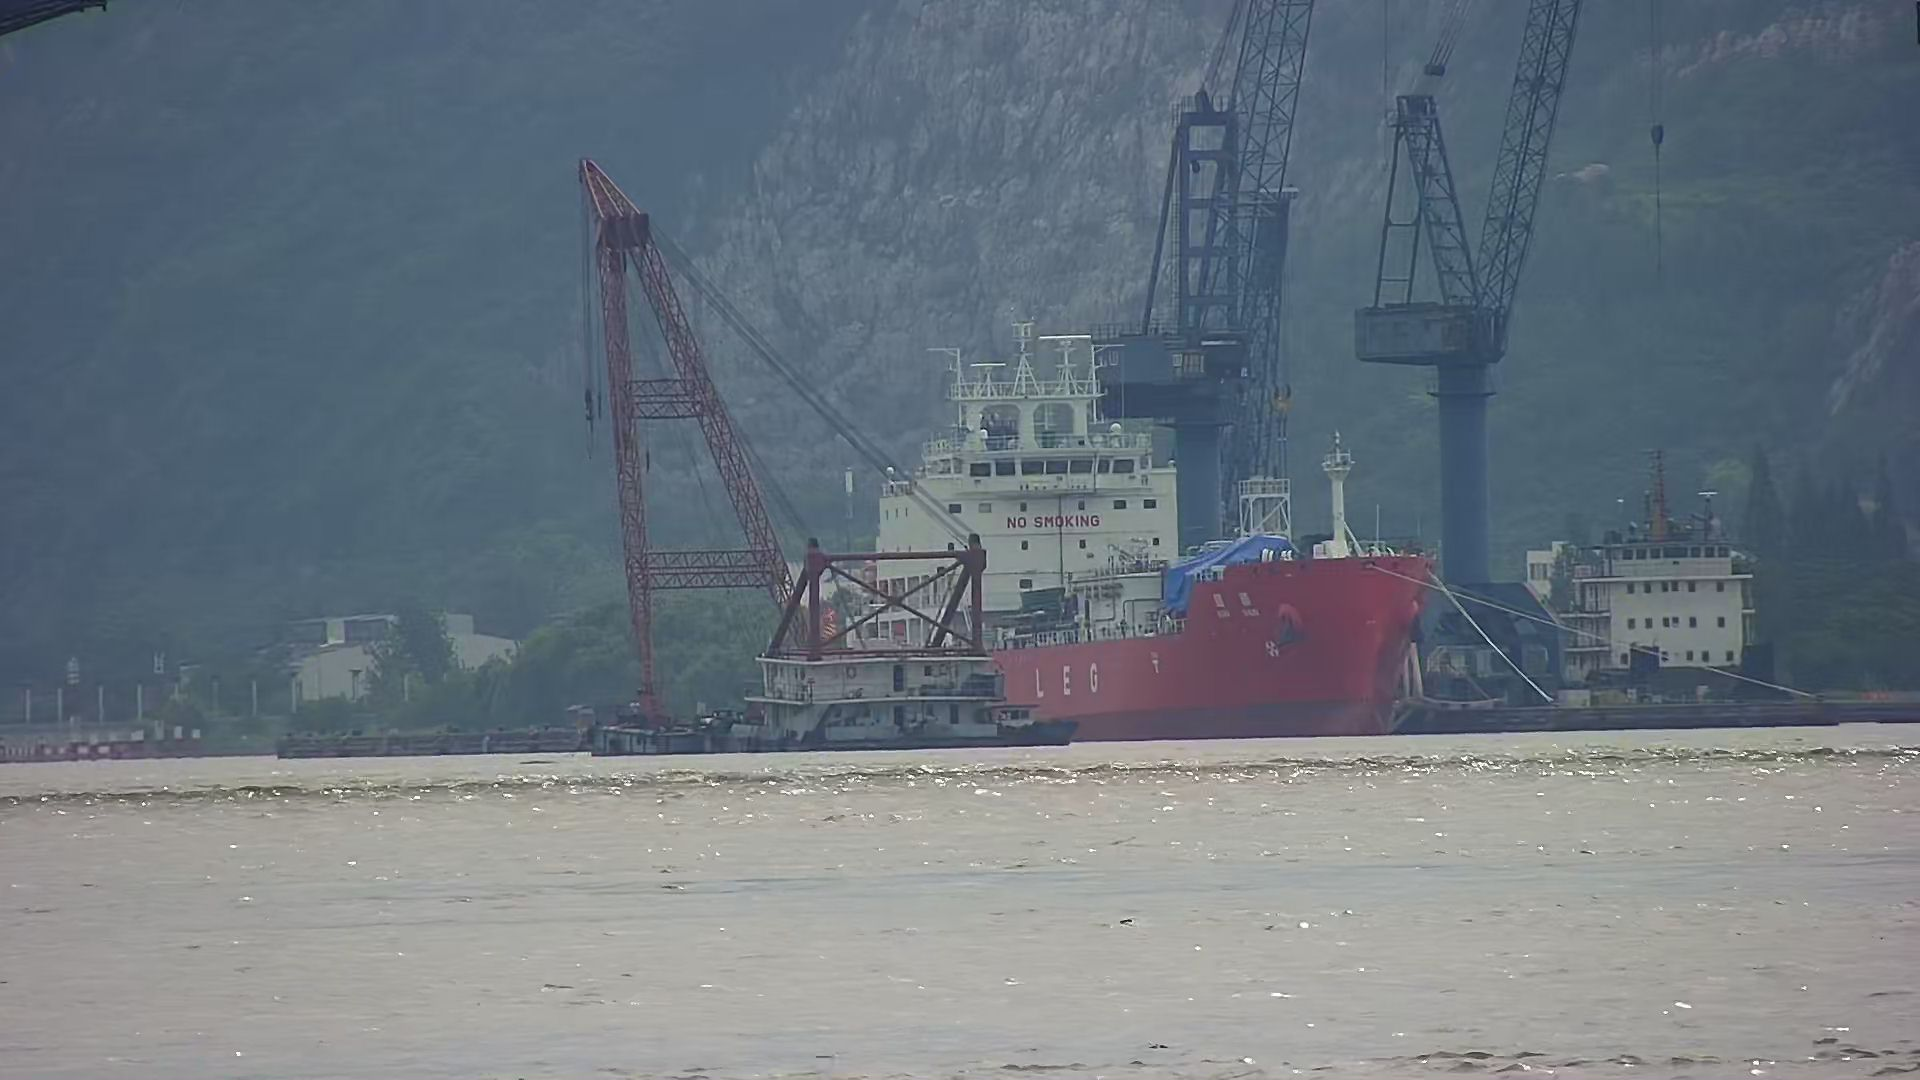harbor: (1083, 1, 1770, 731)
ship: (571, 162, 1073, 753), (775, 320, 1433, 737)
